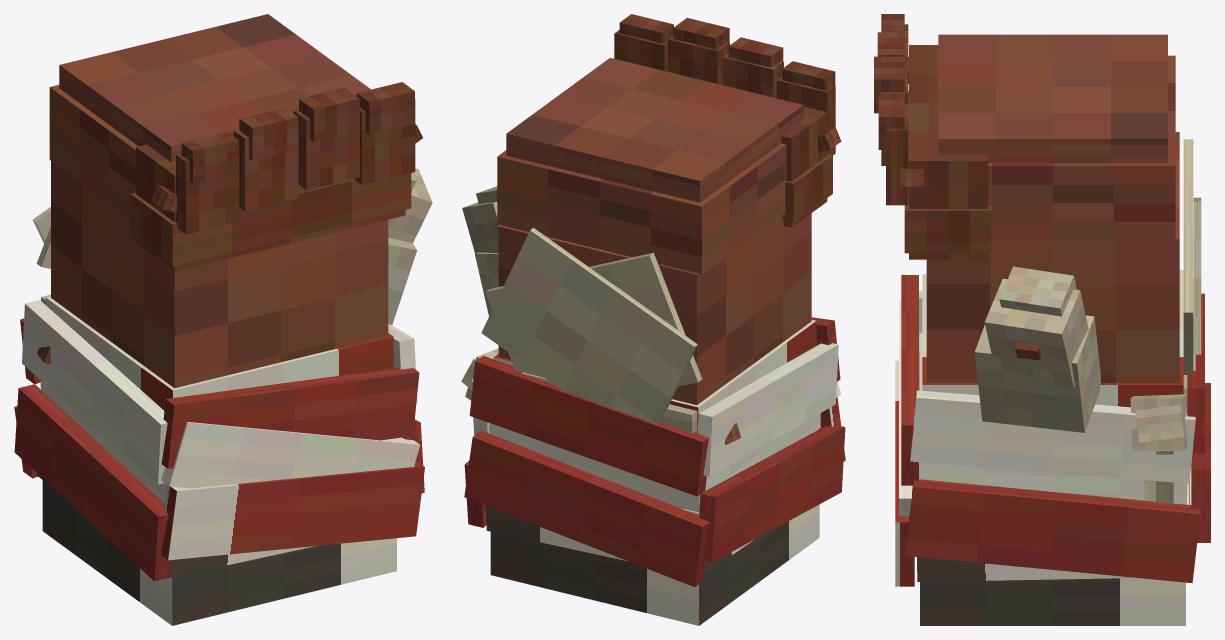
The model's file is hand_wrap_v2.obj.
3 views of the same model, side by side, from view 1: azimuth 30°, elevation 25°; view 2: azimuth 150°, elevation 25°; view 3: azimuth 270°, elevation 25° (orthographic). The views are drawn at different scales.
Visible parts, largest first — view 1: hand_wrap_v2; view 2: hand_wrap_v2; view 3: hand_wrap_v2.
Boxes of the visible parts, x1,y1,x2,y2 form: hand_wrap_v2: (14, 14, 432, 625); hand_wrap_v2: (461, 14, 845, 625); hand_wrap_v2: (874, 14, 1210, 625).
Size of the model in its own units: 0.4247 by 0.605 by 0.3575.
